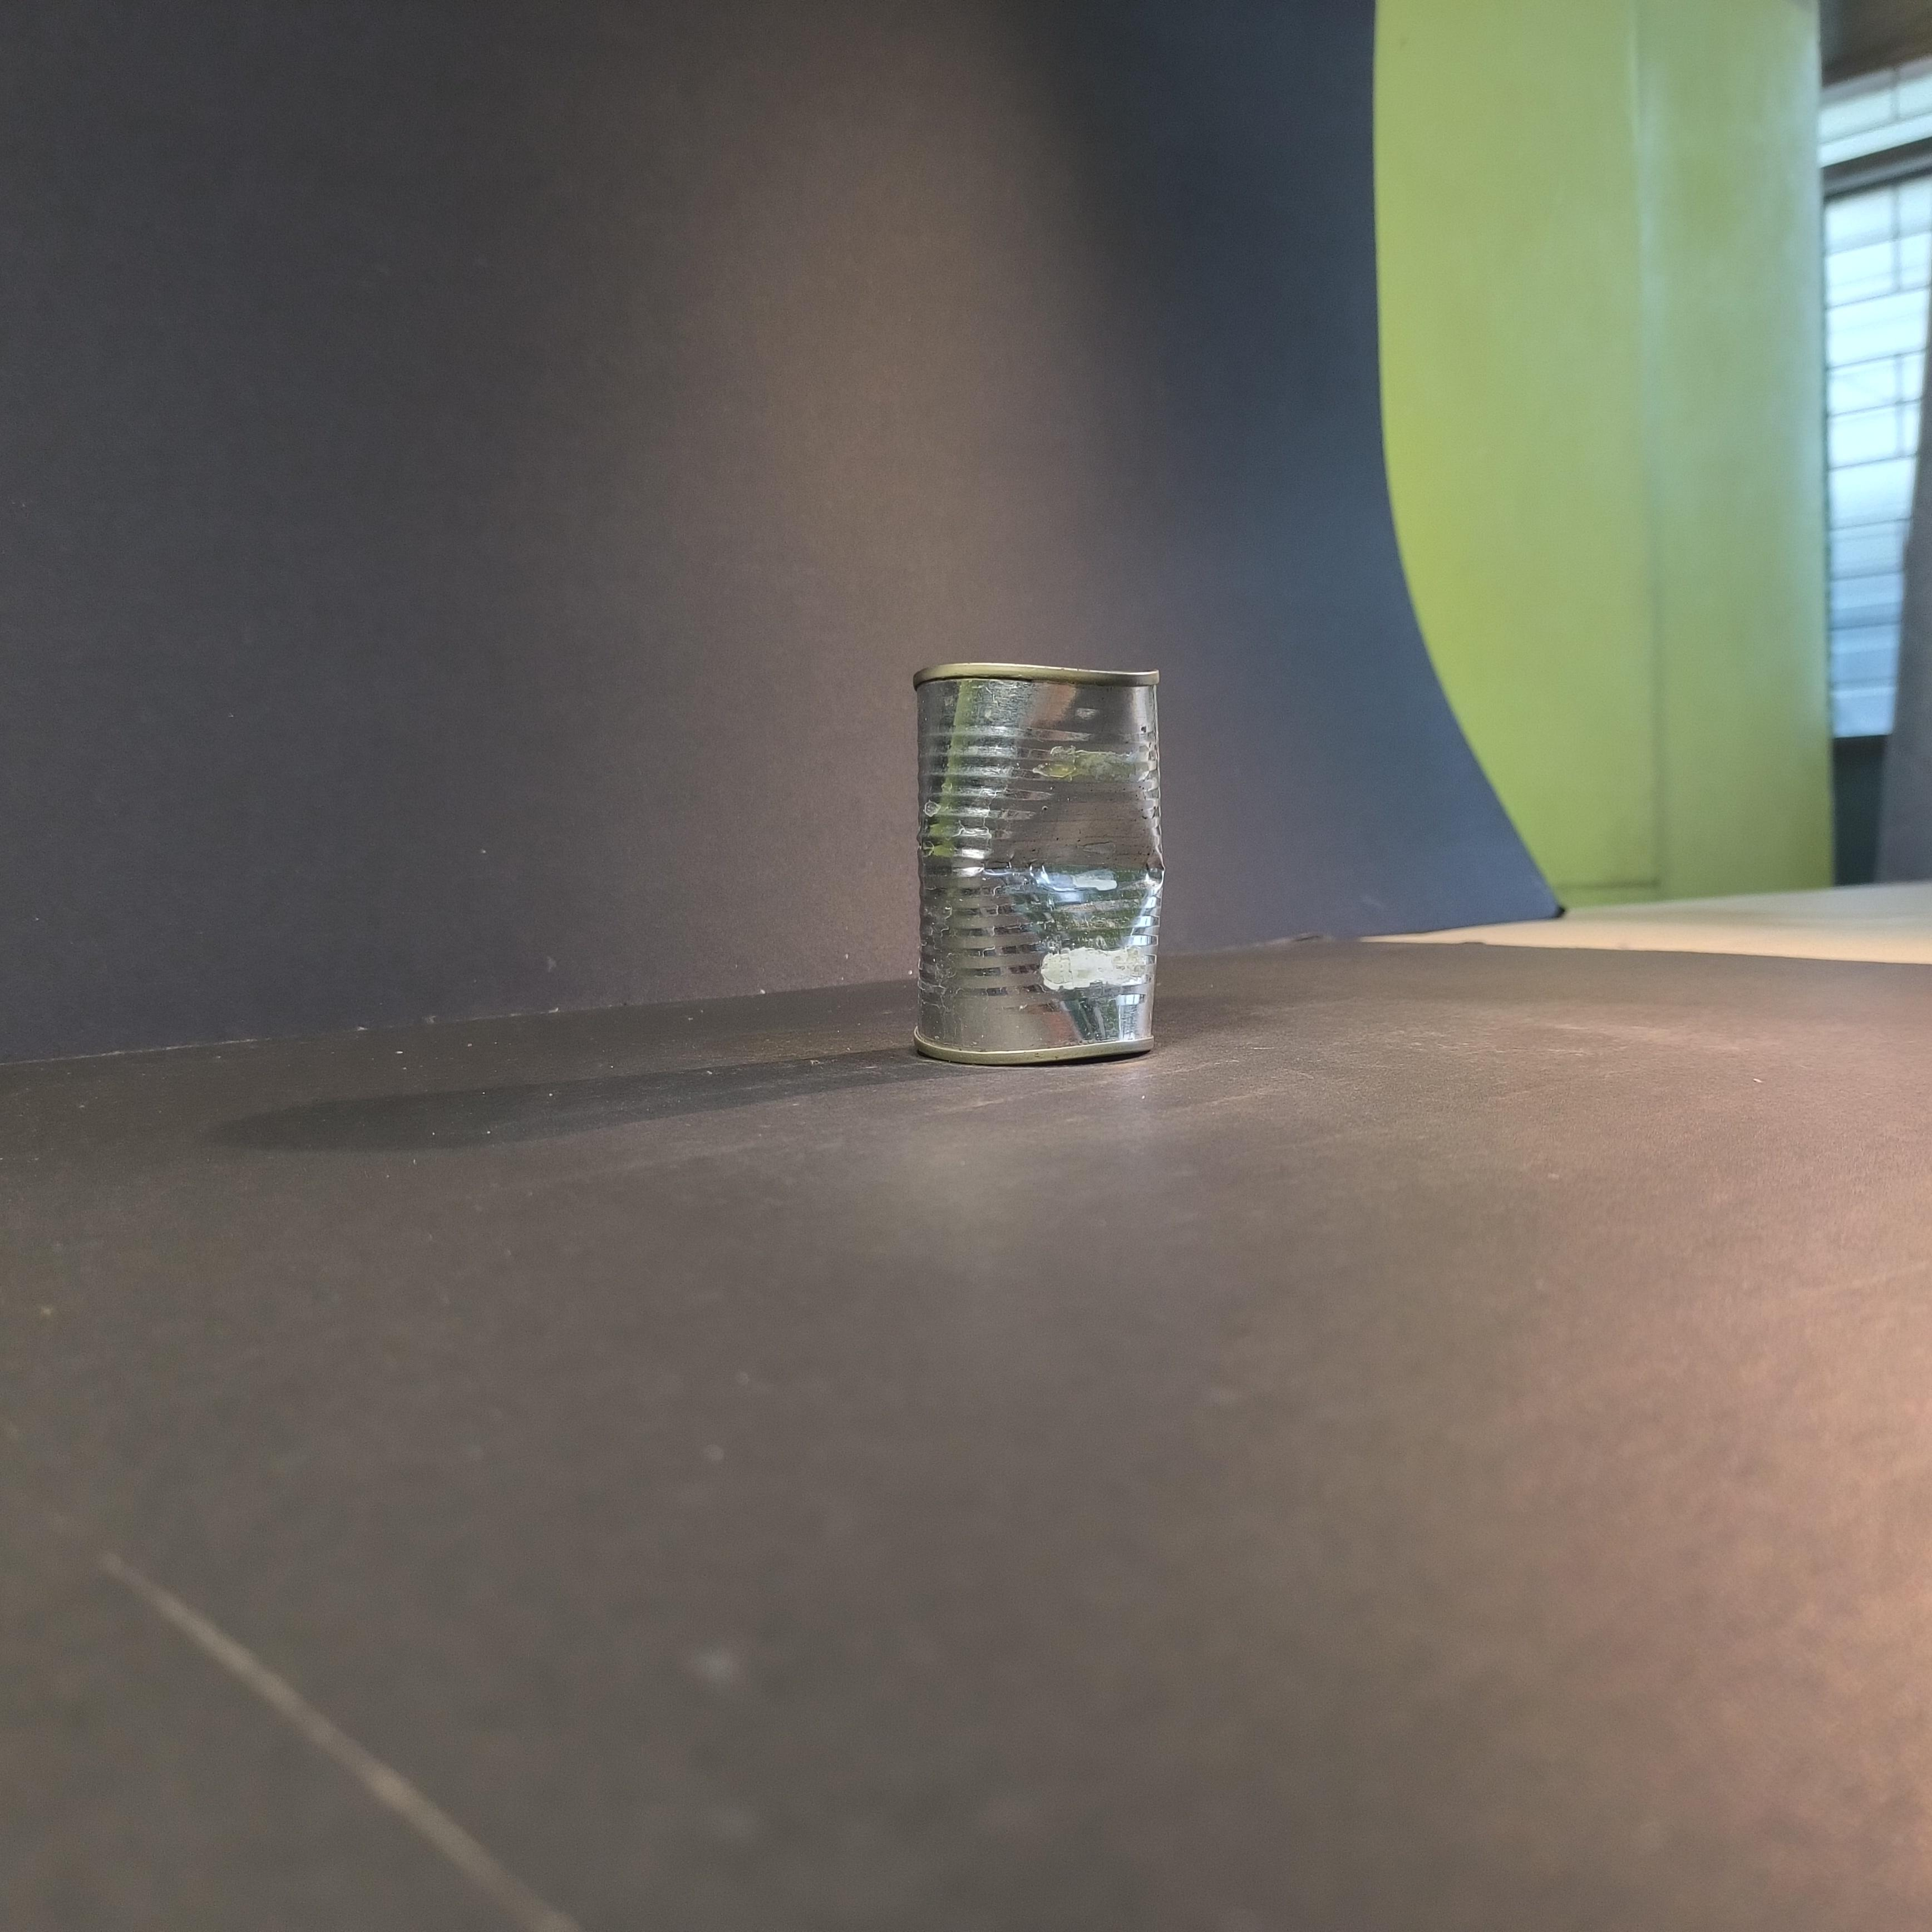Major Defect: (912, 662, 1167, 1064)
